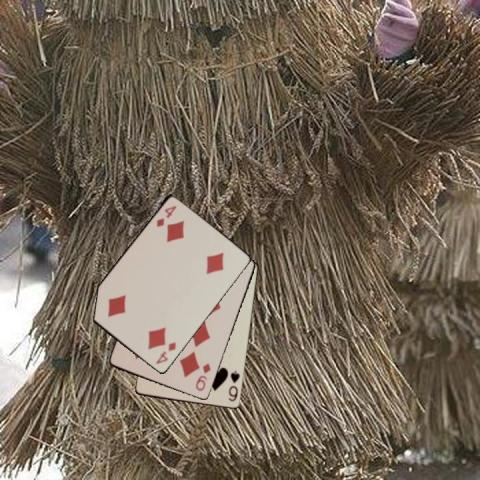4d: (153, 202, 178, 228), (153, 339, 177, 366)
6s: (226, 368, 242, 403)
9d: (193, 360, 212, 392)
